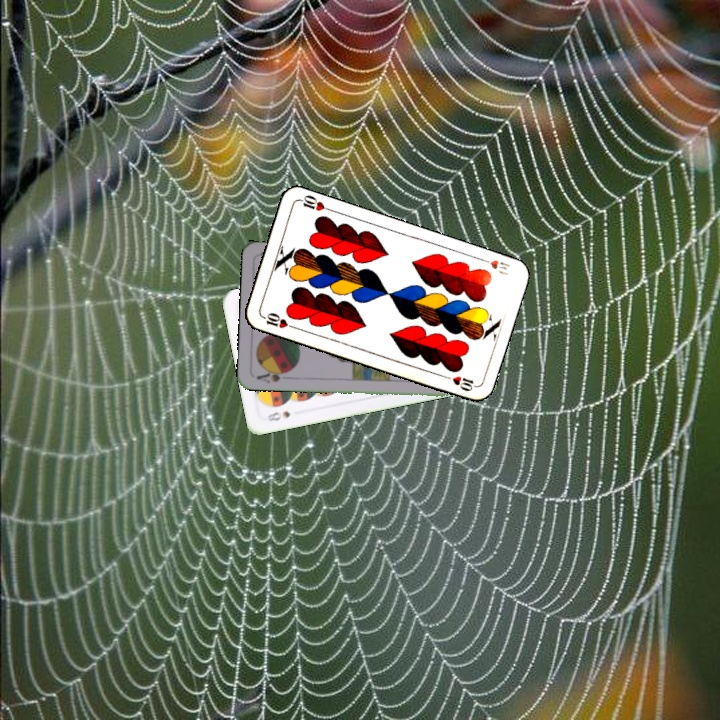H10: (476, 254, 512, 278), (258, 309, 297, 331)
S8: (261, 407, 293, 424)
SA: (253, 366, 293, 386)
